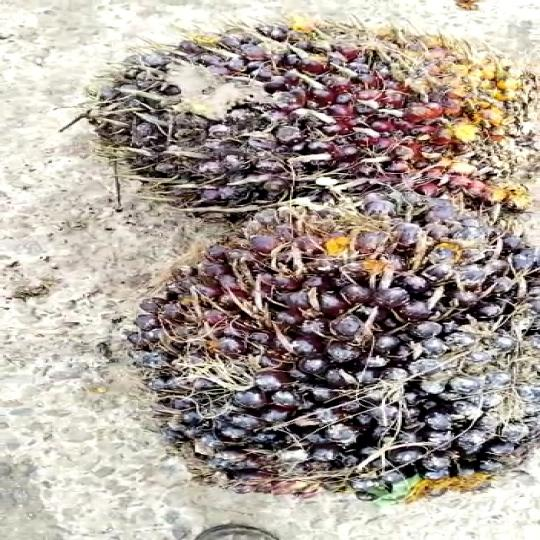kurang masak: (135, 191, 540, 503), (71, 17, 540, 234)
